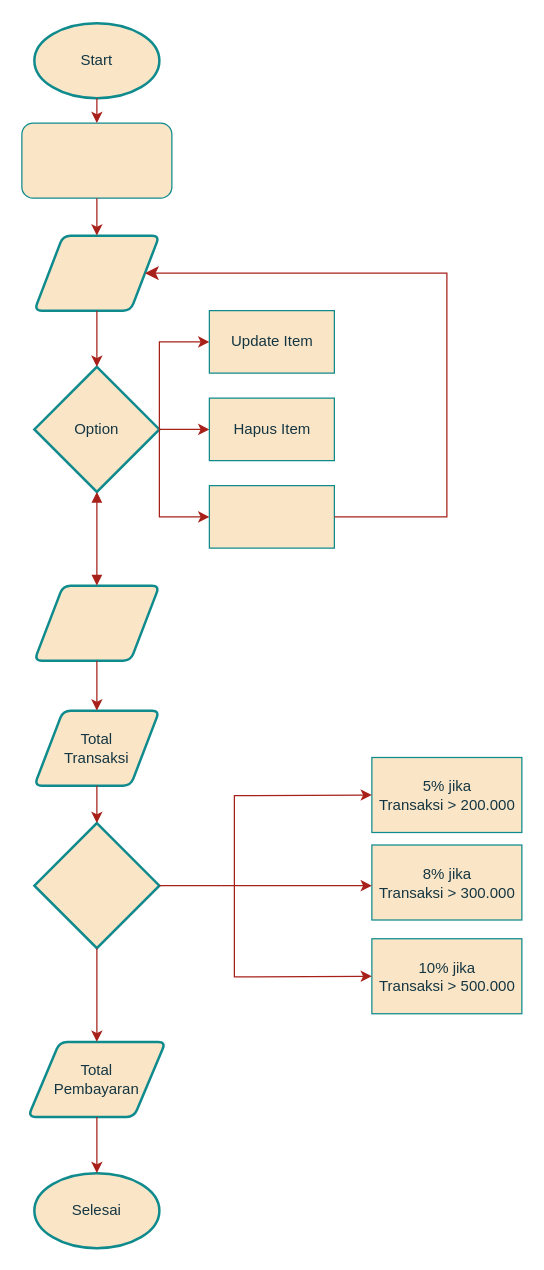
Some shapes in this 544 by 1270 pixel diagram are drawn without their labels. Each missing label, with the box of its shape:
Buat ID Transaksi: (21, 122, 172, 198)
Check Item: (32, 584, 160, 661)
Diskon, Jika: (32, 821, 160, 949)
Input Item: (32, 234, 160, 311)
Reset Transaksi: (208, 484, 334, 548)
